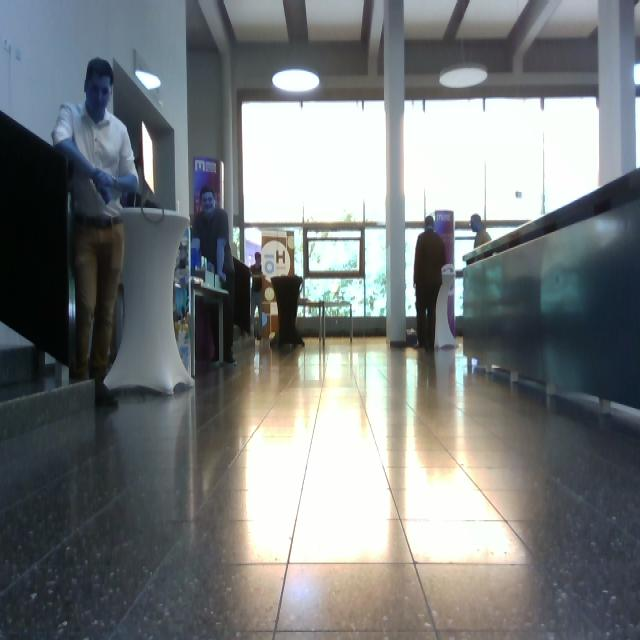light bulb: (439, 64, 488, 89), (272, 68, 320, 93), (135, 71, 161, 91), (633, 63, 640, 87)
person: (51, 57, 140, 406), (192, 185, 237, 366), (413, 216, 447, 353), (470, 214, 492, 249)
pillar: (103, 205, 195, 396), (383, 1, 408, 346), (434, 210, 458, 349)
tiled floor: (1, 332, 640, 638)
window: (241, 97, 388, 321)
